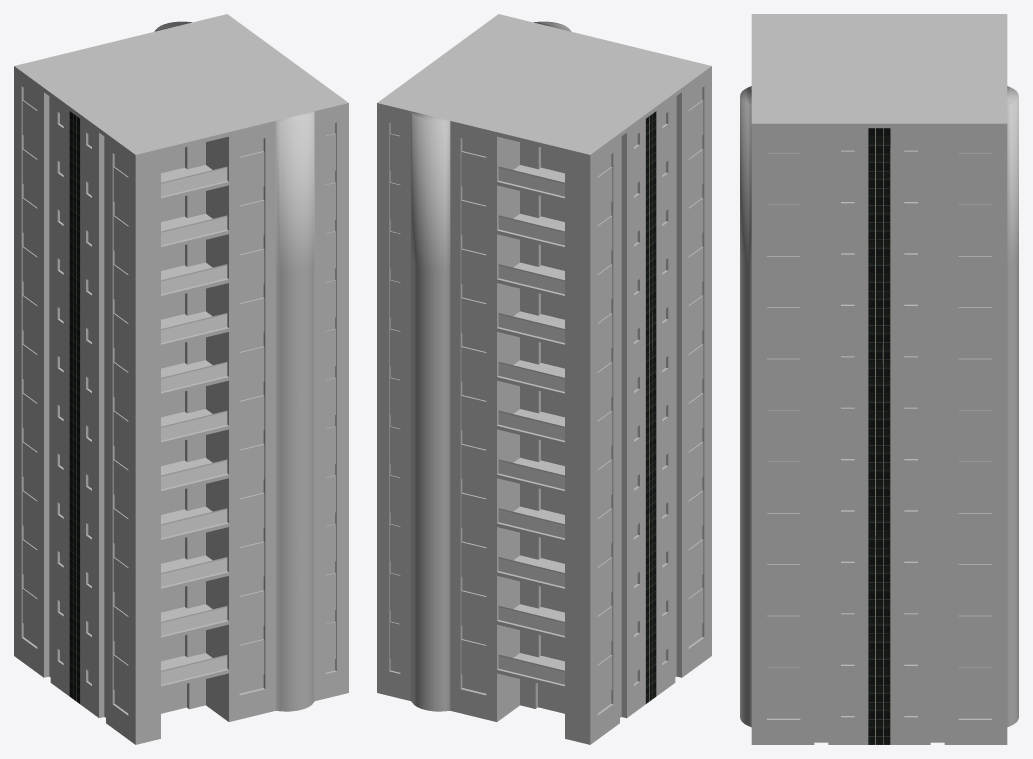
The picture shows the model from 3 angles, left to right: view 1: azimuth 30°, elevation 25°; view 2: azimuth 150°, elevation 25°; view 3: azimuth 270°, elevation 25°; orthographic projection. The views are drawn at different scales.
Parts seen in each view (by area): view 1: BR-029; view 2: BR-029; view 3: BR-029.
Boxes of the visible parts, left/top/right/bottom form: BR-029: left=14, top=14, right=348, bottom=744; BR-029: left=377, top=14, right=711, bottom=744; BR-029: left=740, top=14, right=1018, bottom=744.
Size of what is drawn, in the model's own units: 16 by 42.31 by 17.21.
